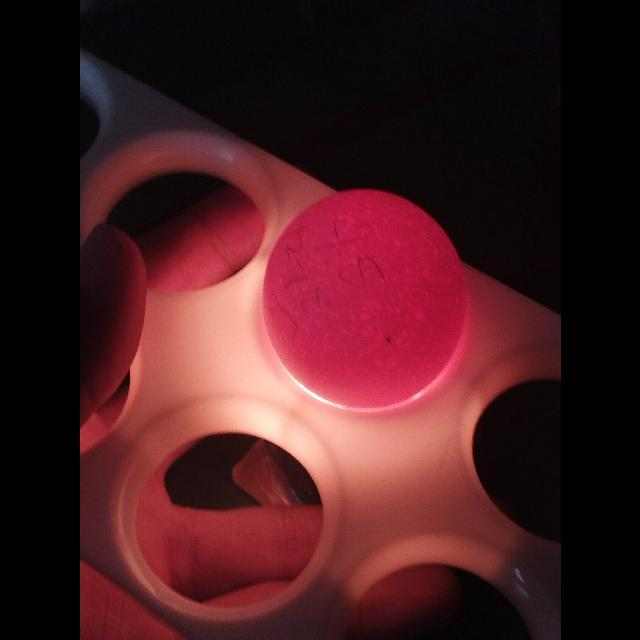Infertile: (258, 185, 472, 412)
